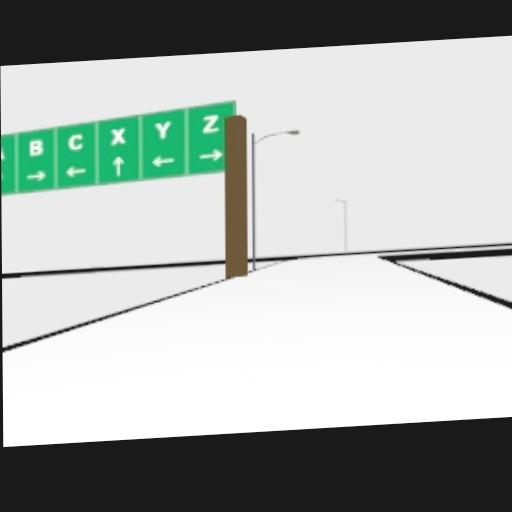A: (2, 142, 5, 159)
B: (28, 138, 42, 154)
C: (68, 133, 82, 149)
Left: (151, 153, 175, 166), (65, 165, 86, 176)
Right: (199, 147, 223, 160), (25, 169, 47, 181)
Straight: (111, 154, 123, 176)
X: (109, 126, 125, 144)
Y: (154, 118, 172, 138)
Z: (202, 113, 220, 133)
